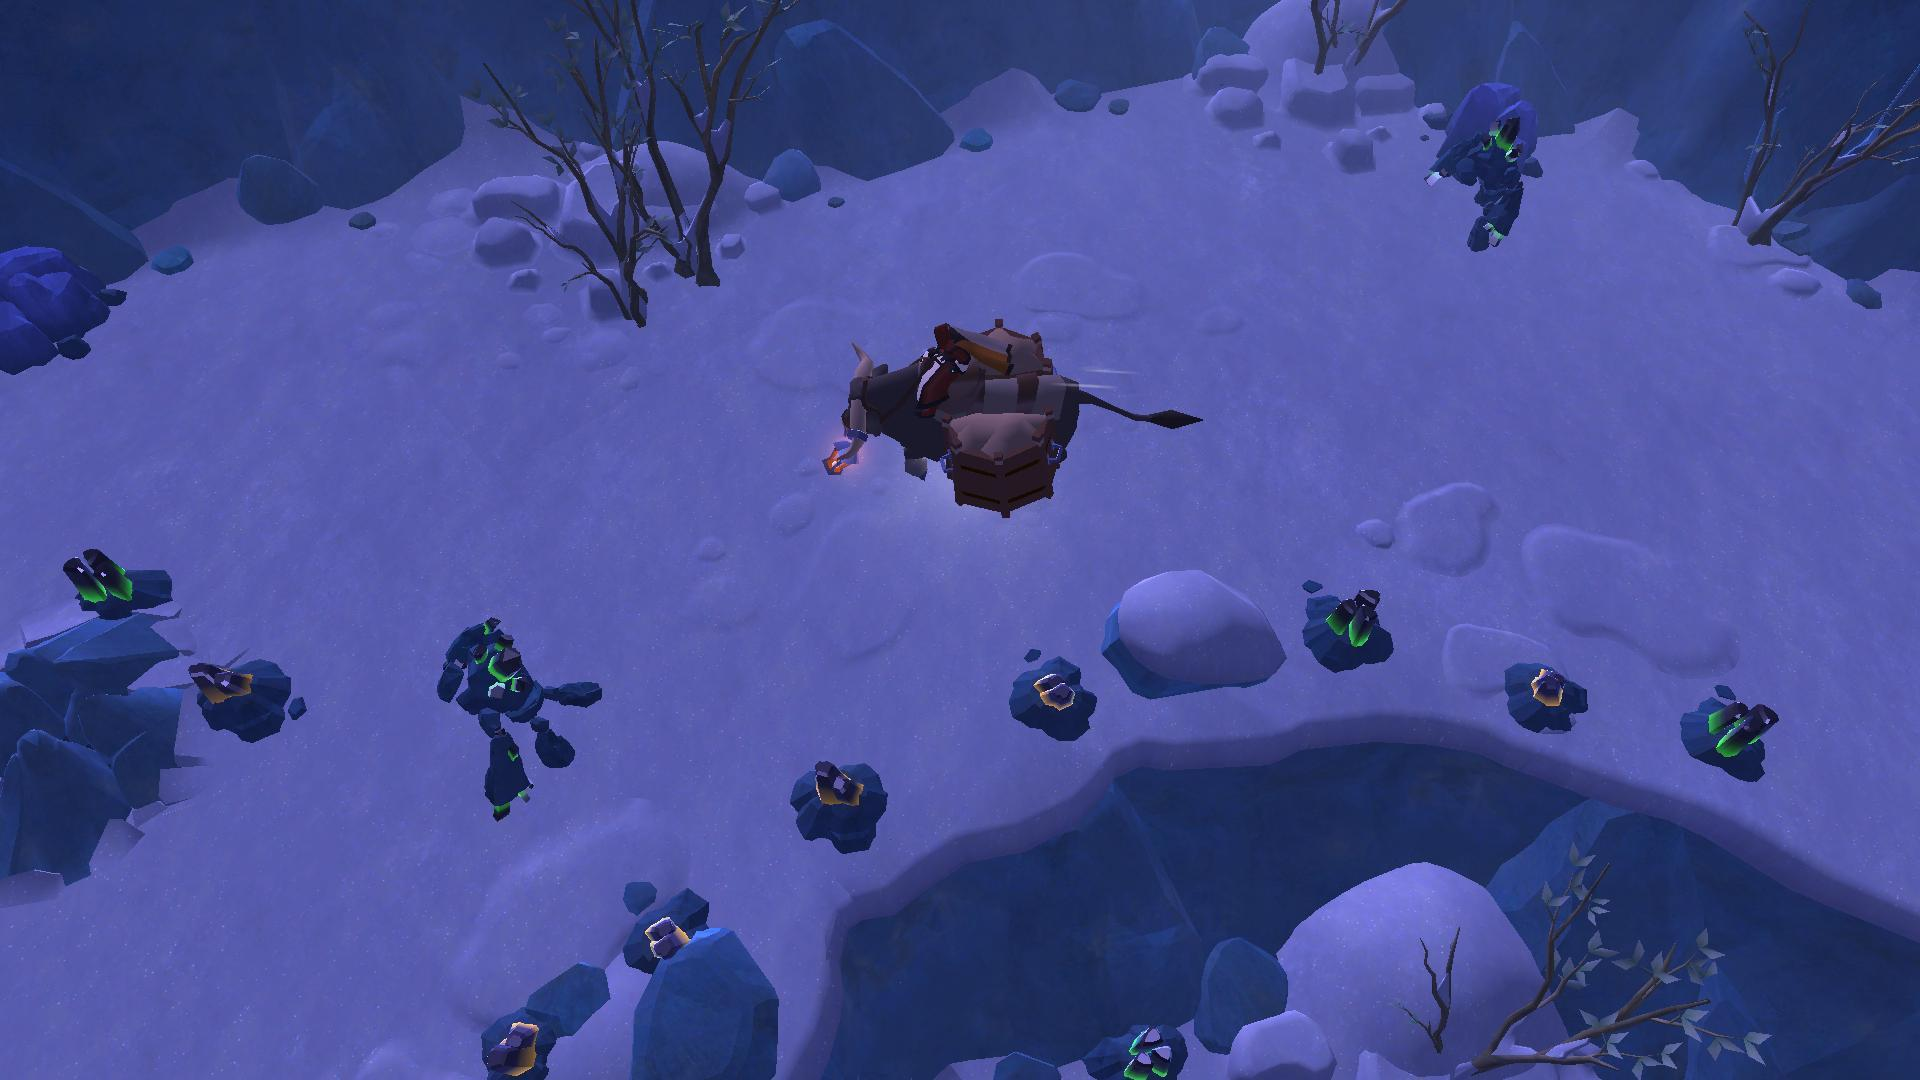ore_t3: (1697, 696, 1783, 774), (59, 545, 135, 616), (1331, 591, 1382, 658), (1121, 1029, 1170, 1080)
rock_t4: (0, 249, 131, 375)
